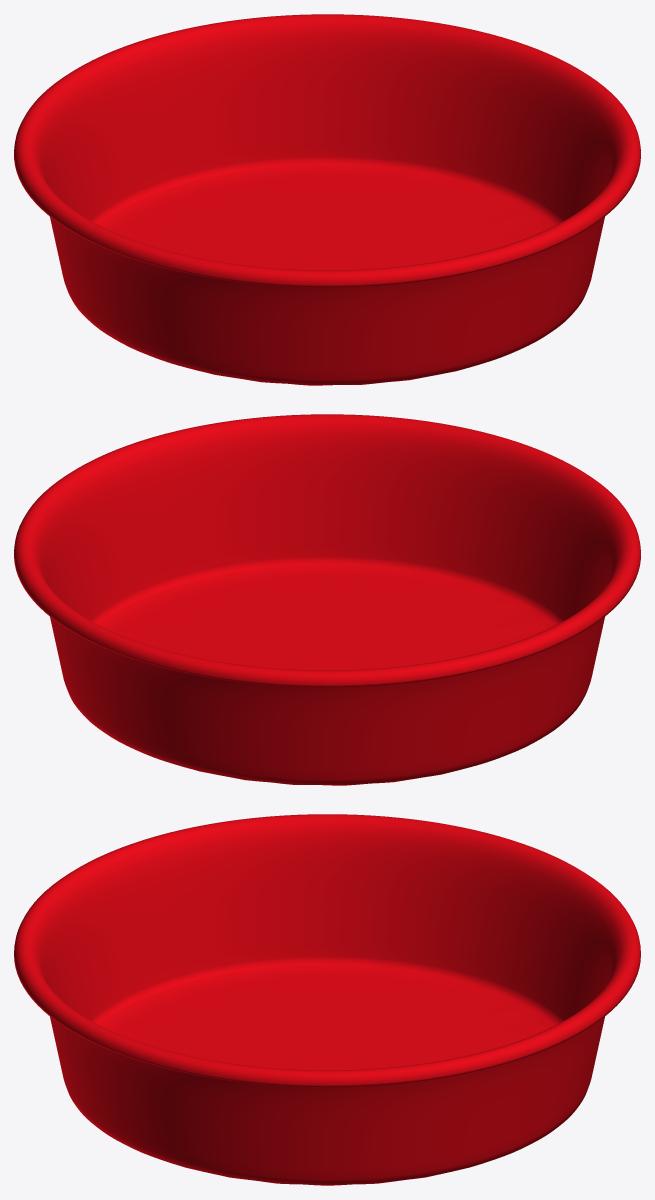
The model's file is blue_bucket.dae.
3 views of the same model, one above another, from view 1: azimuth 30°, elevation 25°; view 2: azimuth 150°, elevation 25°; view 3: azimuth 270°, elevation 25° (orthographic).
Visible parts, largest first — view 1: Circle; view 2: Circle; view 3: Circle.
Part boxes in pixels (bbox=[...]): Circle: bbox=[14, 14, 640, 385]; Circle: bbox=[14, 414, 640, 785]; Circle: bbox=[14, 814, 640, 1185].
Bounding box in the file's own units: 1.28 × 1.28 × 0.3086.
Materials: 1 (1 with a texture image).
